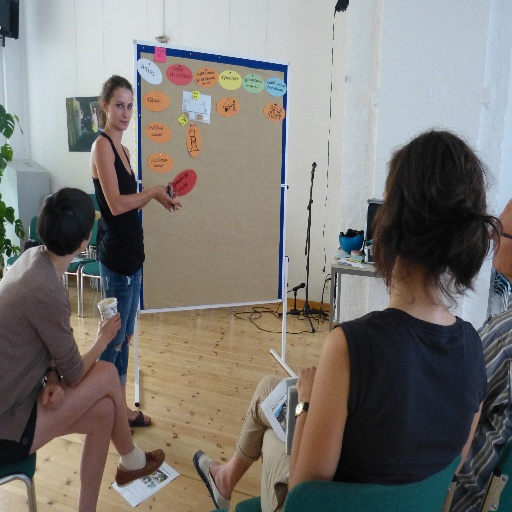hand: (122, 174, 180, 213), (96, 310, 121, 345), (42, 377, 65, 410), (295, 363, 316, 392), (157, 184, 176, 200), (230, 103, 231, 106)
